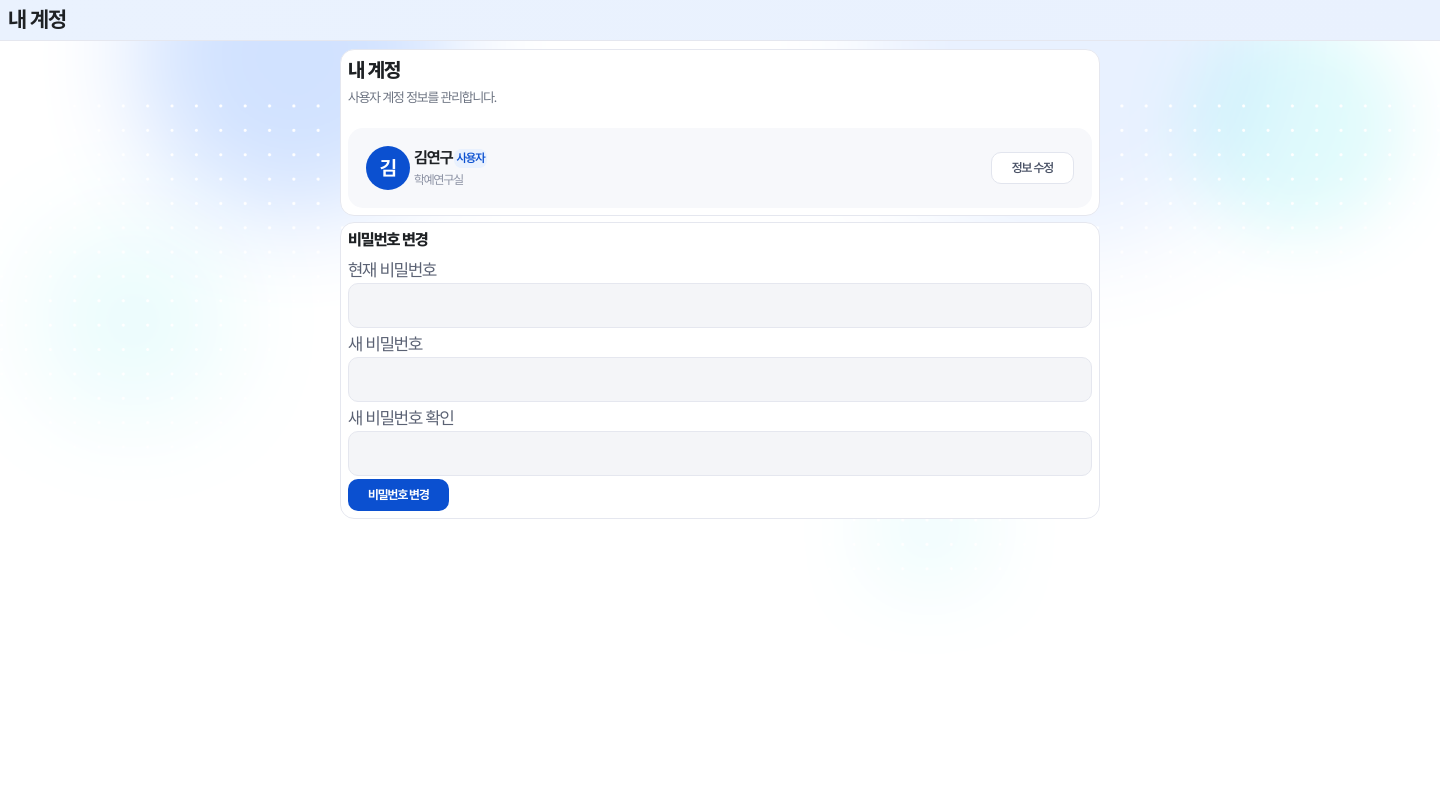
Test case: status:200과 detail이 함께 오면 성공으로 오판하지 않고 그 사유를 보여준다
The image size is (1440, 810).
In the password field labelled "현재 비밀번호": (720, 305) top-left (348, 283), bottom-right (1092, 328), type "oldpass1"
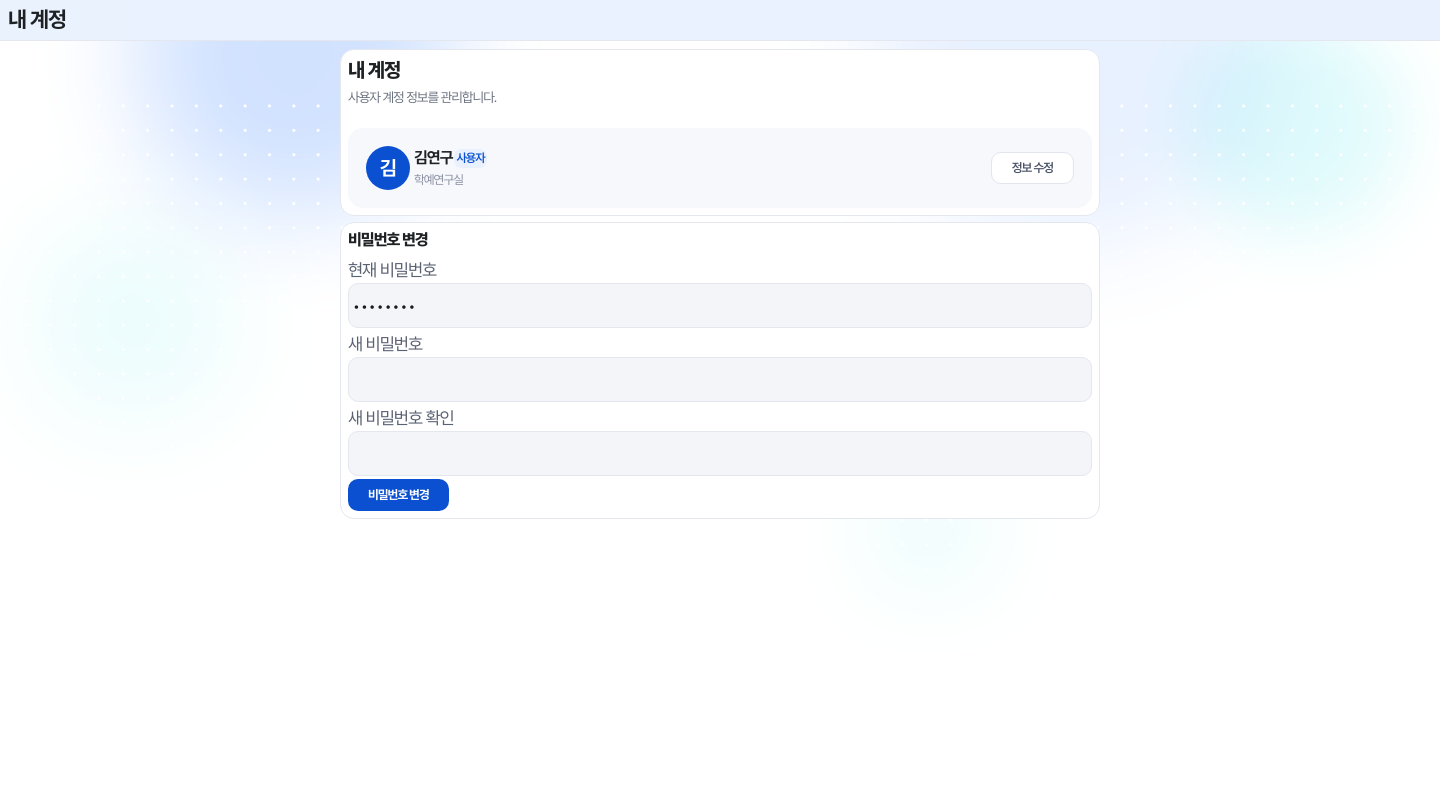
In the password field labelled "새 비밀번호": (720, 379) top-left (348, 357), bottom-right (1092, 402), type "newpass123"
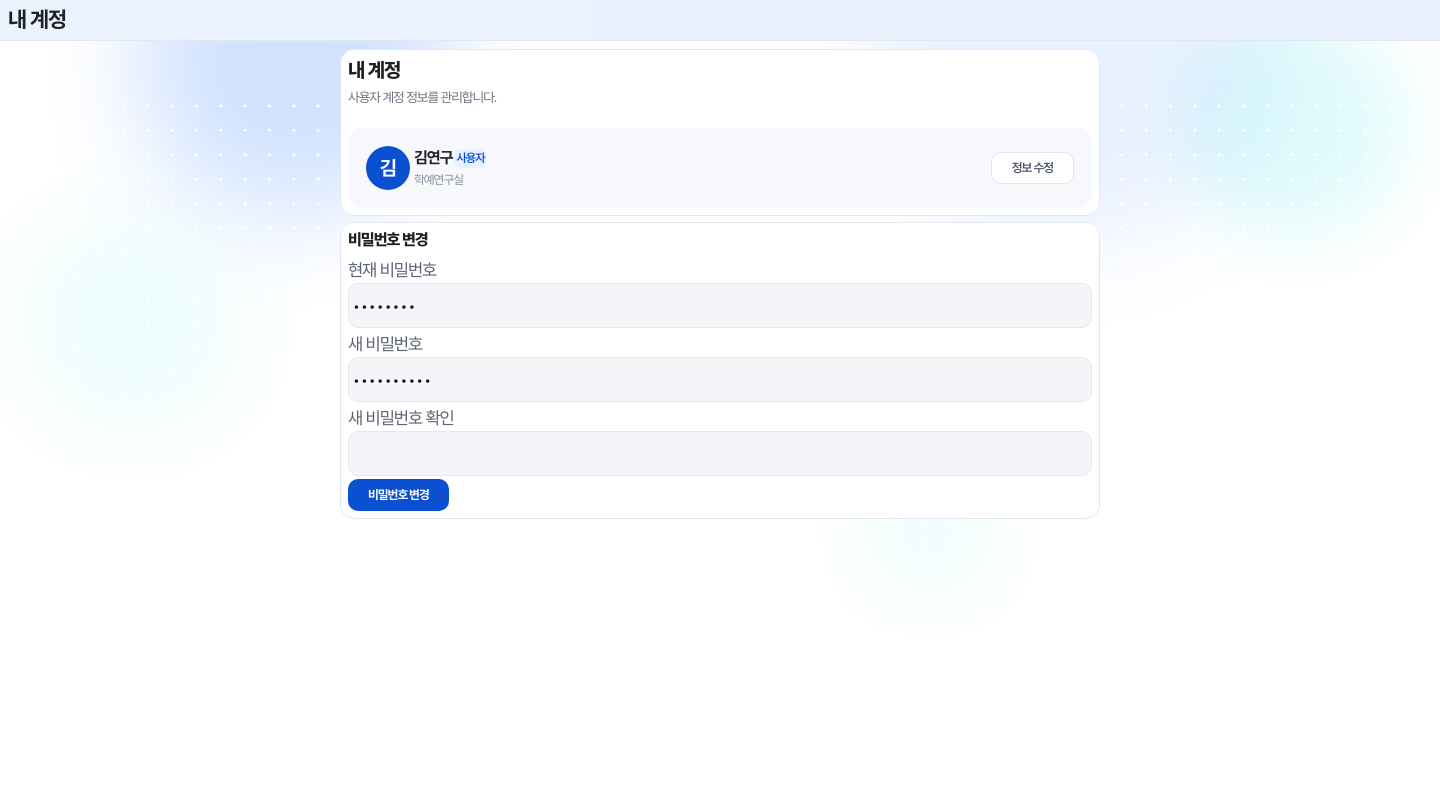
In the password field labelled "새 비밀번호 확인": (720, 453) top-left (348, 431), bottom-right (1092, 476), type "newpass123"
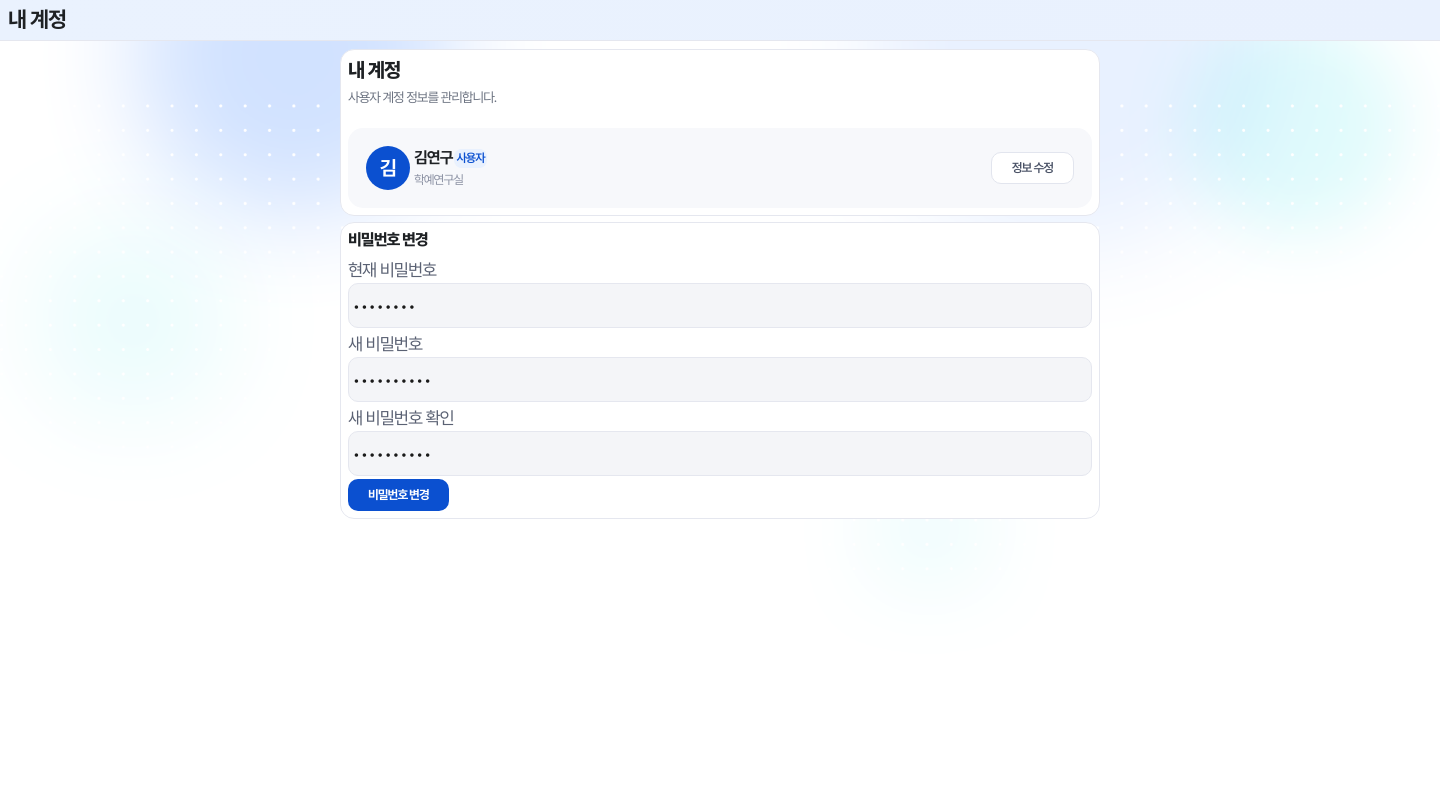
Click the button "비밀번호 변경": (398, 495) top-left (348, 479), bottom-right (449, 511)
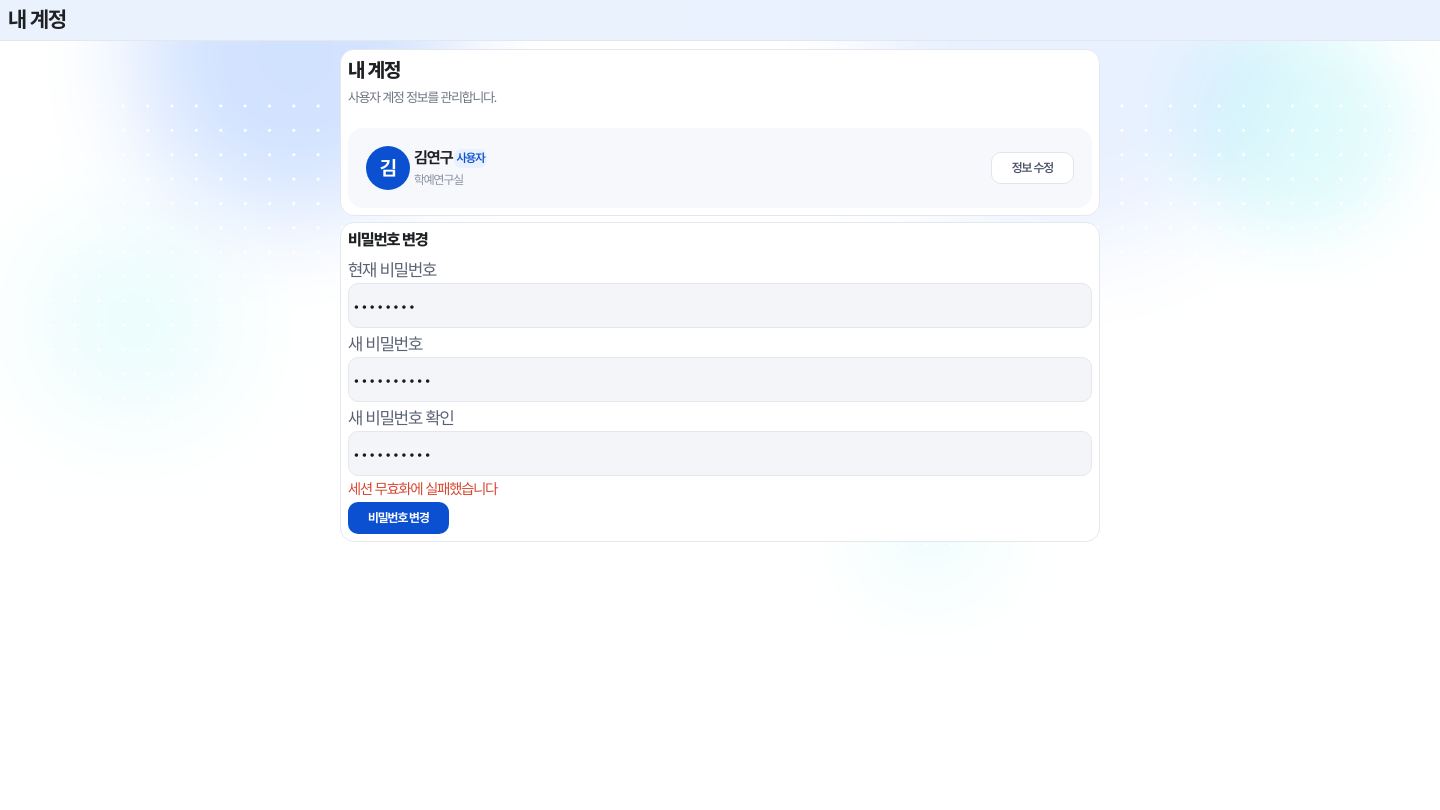
Now the message reads "세션 무효화에 실패했습니다", box top-left (348, 480), bottom-right (497, 498)
